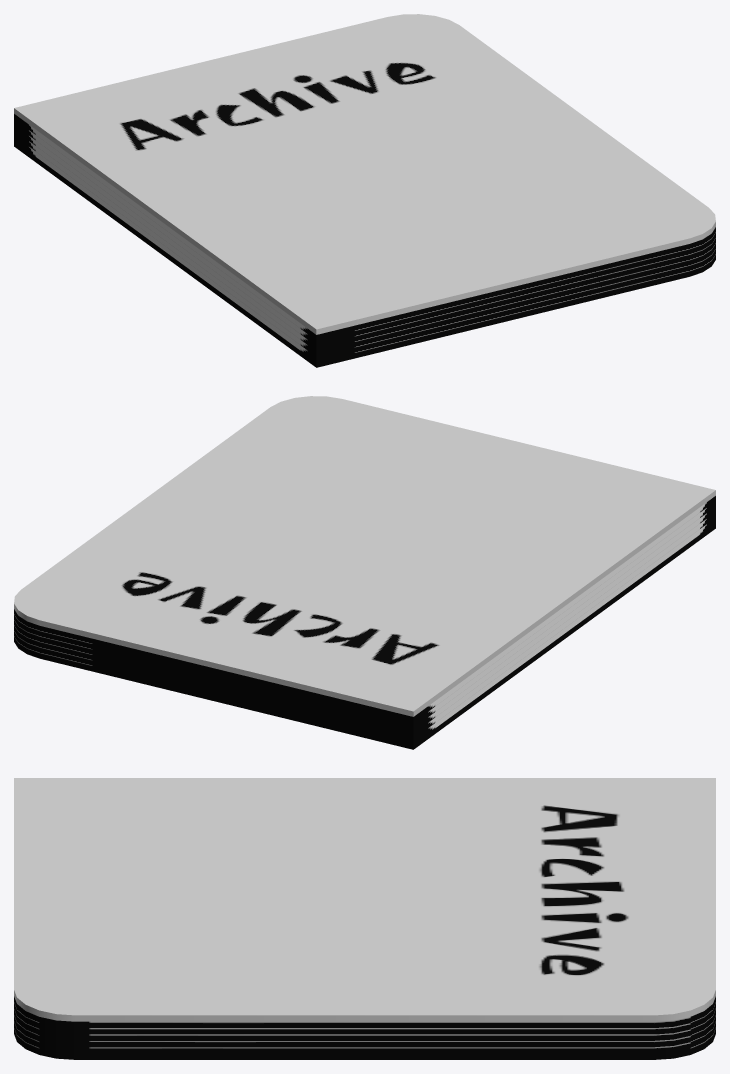
The model's file is book.gltf.
3 views of the same model, one above another, from view 1: azimuth 30°, elevation 25°; view 2: azimuth 150°, elevation 25°; view 3: azimuth 270°, elevation 25° (orthographic). The views are drawn at different scales.
Visible parts, largest first — view 1: couverture_front, couverture_back, page4, page2, page5, page3, page1; view 2: couverture_front, couverture_back, page4, page2, page5, page3, page1; view 3: couverture_front, page5, page3, page4, page2, couverture_back, page1.
Boxes of the visible parts, bbox=[...] form: couverture_front: bbox=[14, 14, 715, 334]; couverture_back: bbox=[14, 141, 715, 367]; page4: bbox=[14, 130, 715, 356]; page2: bbox=[14, 119, 715, 345]; page5: bbox=[14, 136, 715, 362]; page3: bbox=[14, 125, 715, 351]; page1: bbox=[14, 114, 715, 340]; couverture_front: bbox=[14, 396, 715, 716]; couverture_back: bbox=[14, 523, 715, 749]; page4: bbox=[14, 512, 715, 738]; page2: bbox=[14, 501, 715, 727]; page5: bbox=[14, 518, 715, 744]; page3: bbox=[14, 507, 715, 733]; page1: bbox=[14, 496, 715, 722]; couverture_front: bbox=[14, 778, 715, 1021]; page5: bbox=[14, 1022, 715, 1053]; page3: bbox=[14, 1009, 715, 1040]; page4: bbox=[14, 1015, 715, 1047]; page2: bbox=[14, 1003, 715, 1034]; couverture_back: bbox=[14, 1028, 715, 1059]; page1: bbox=[14, 996, 715, 1027].
Bounding box in the file's own units: 1.6 × 0.14 × 2.
Materials: 7 (6 with a texture image).
